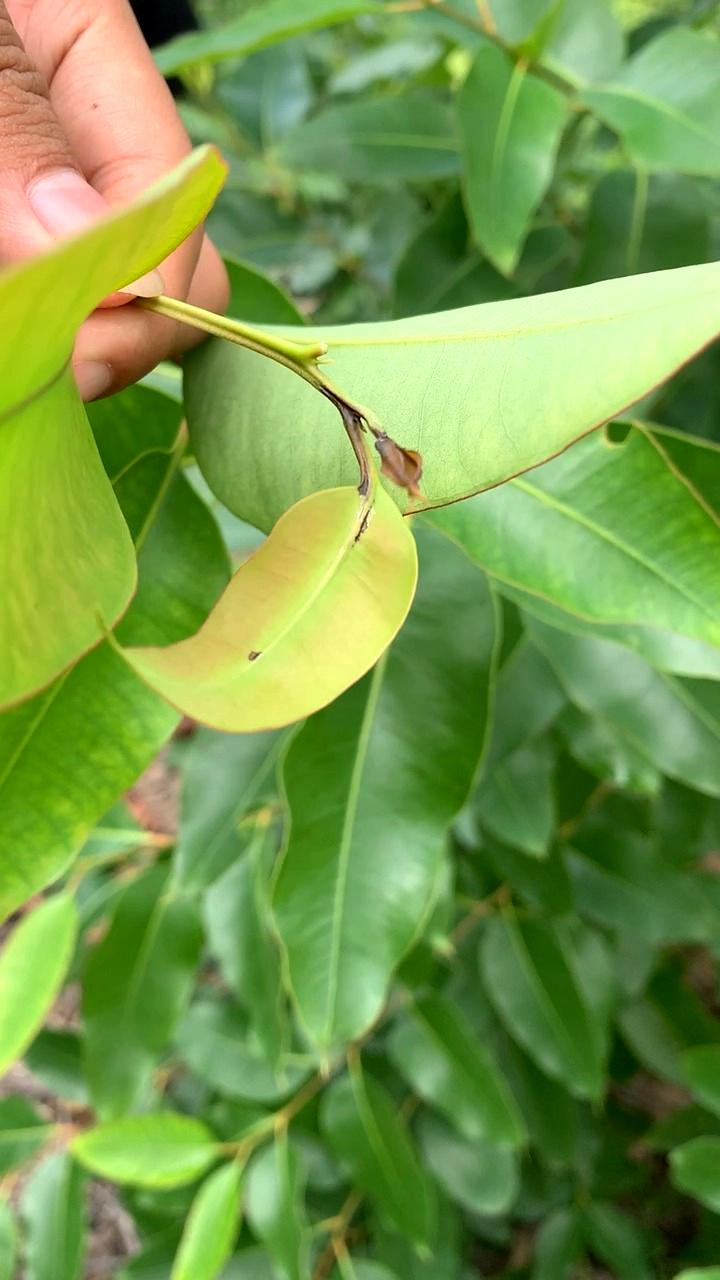Helopeltis-Withered Sprout: (333, 401, 429, 546)
